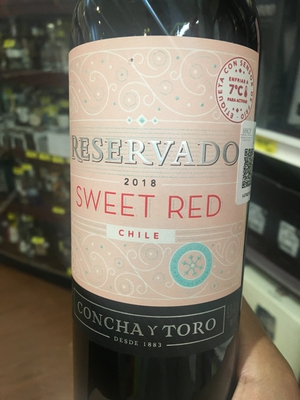reservado sweet red: (67, 1, 257, 390)
